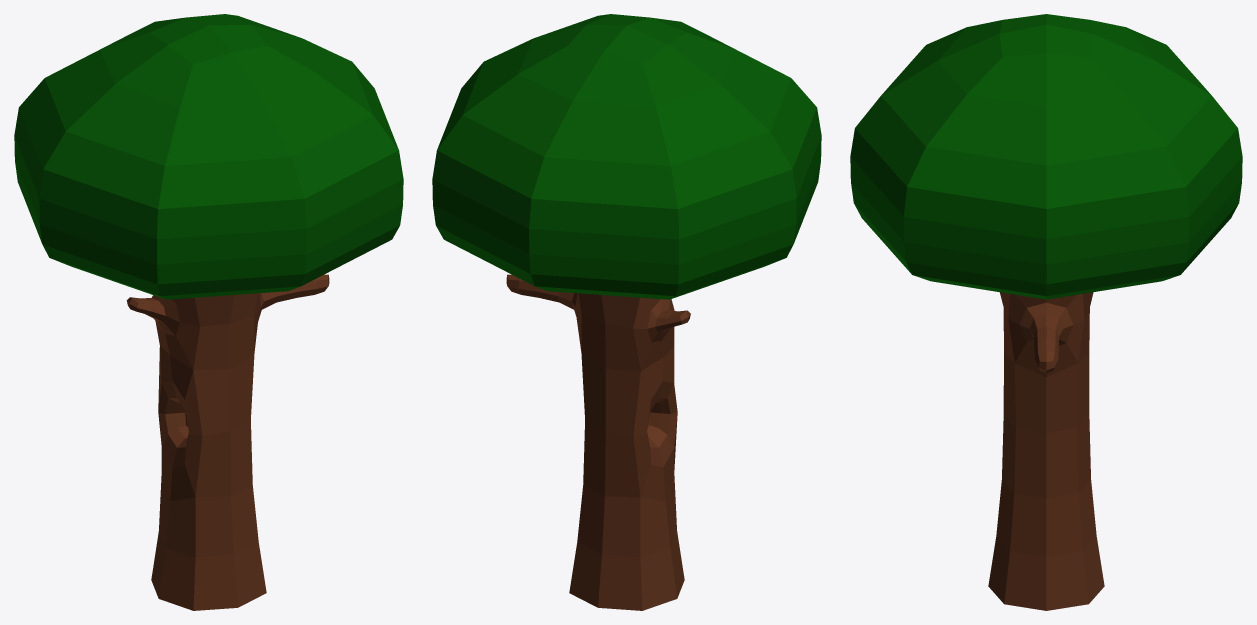
The model's file is round-tree.glb.
3 renders of one model, left to right at view 1: azimuth 30°, elevation 25°; view 2: azimuth 150°, elevation 25°; view 3: azimuth 270°, elevation 25°, orthographic.
Visible parts, largest first — view 1: round-tree; view 2: round-tree; view 3: round-tree.
Part boxes in pixels (<box>): round-tree: <box>14,14,403,610</box>; round-tree: <box>432,14,821,610</box>; round-tree: <box>850,14,1242,610</box>.
Bounding box in the file's own units: 1.55 × 2.45 × 1.55.
